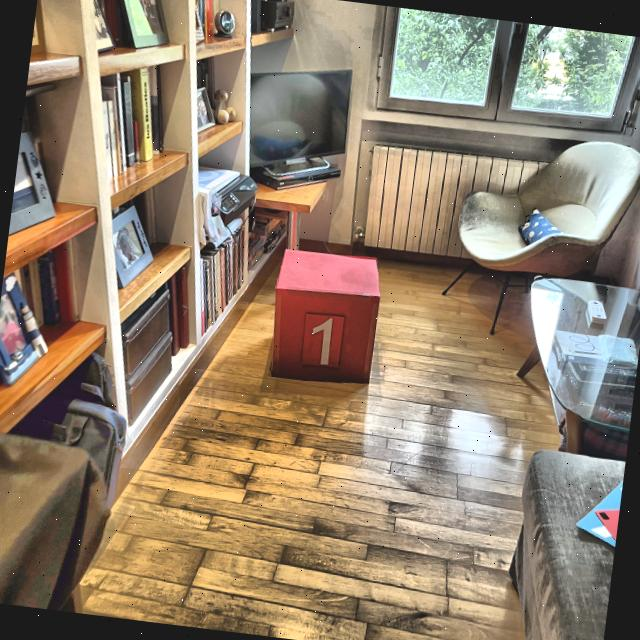one: (307, 316, 333, 366)
red box: (264, 246, 384, 389)
